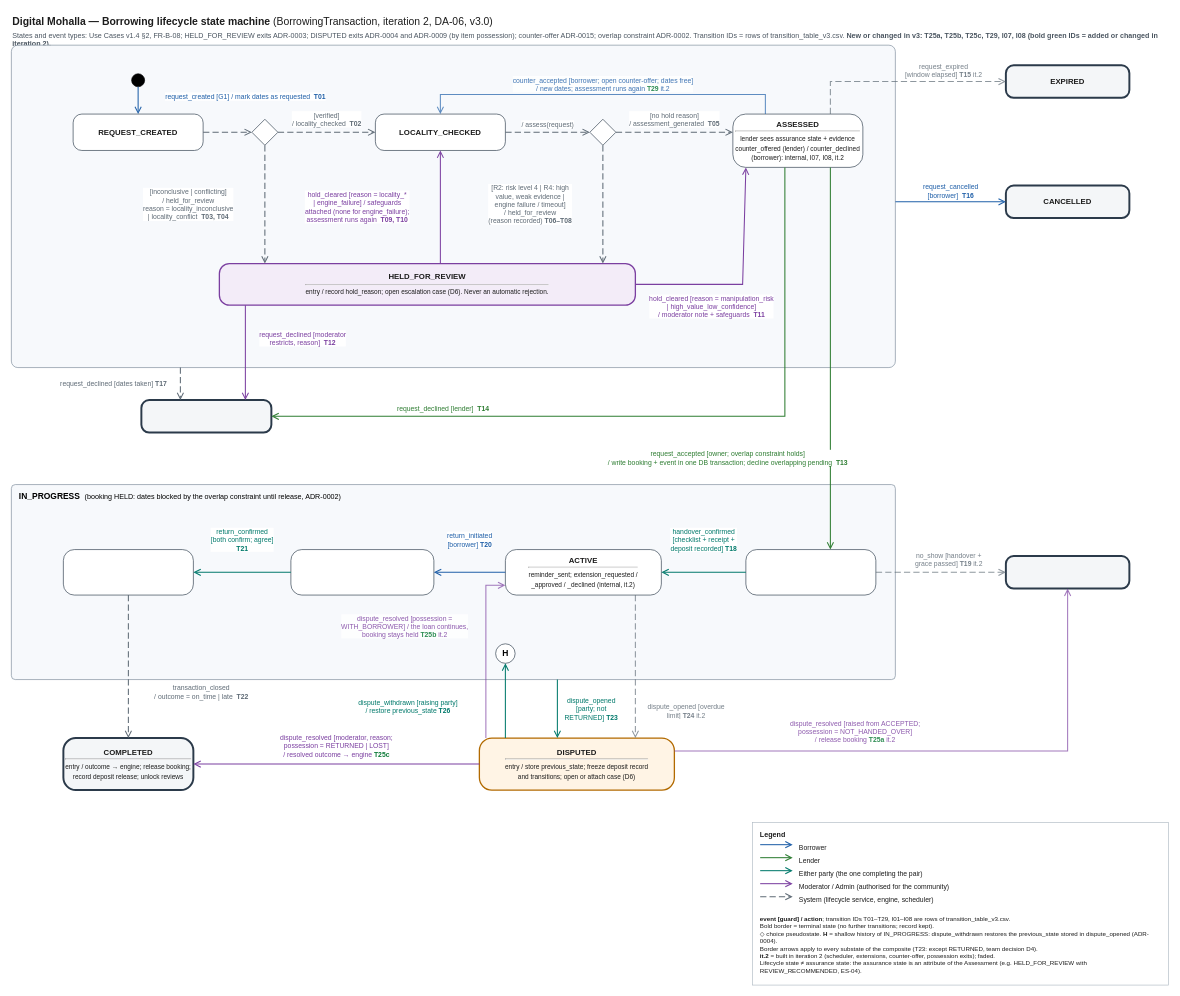
Image size: 1180x996. Some labels were removed from this diagram. The box of each missing label's shape, as (x1, y1, x2, y2) in pixels:
ACCEPTED reminder_sent (internal, it.2): (745, 549, 876, 595)
DECLINED: (140, 399, 272, 433)
NO_SHOW: (1005, 555, 1130, 589)
PENDING (request not yet agreed; dates only marked as requested, ADR-0001): (11, 45, 895, 368)
RETURN_INITIATED reminder_sent (internal, it.2): (290, 549, 434, 595)
RETURNED: (63, 549, 193, 595)
